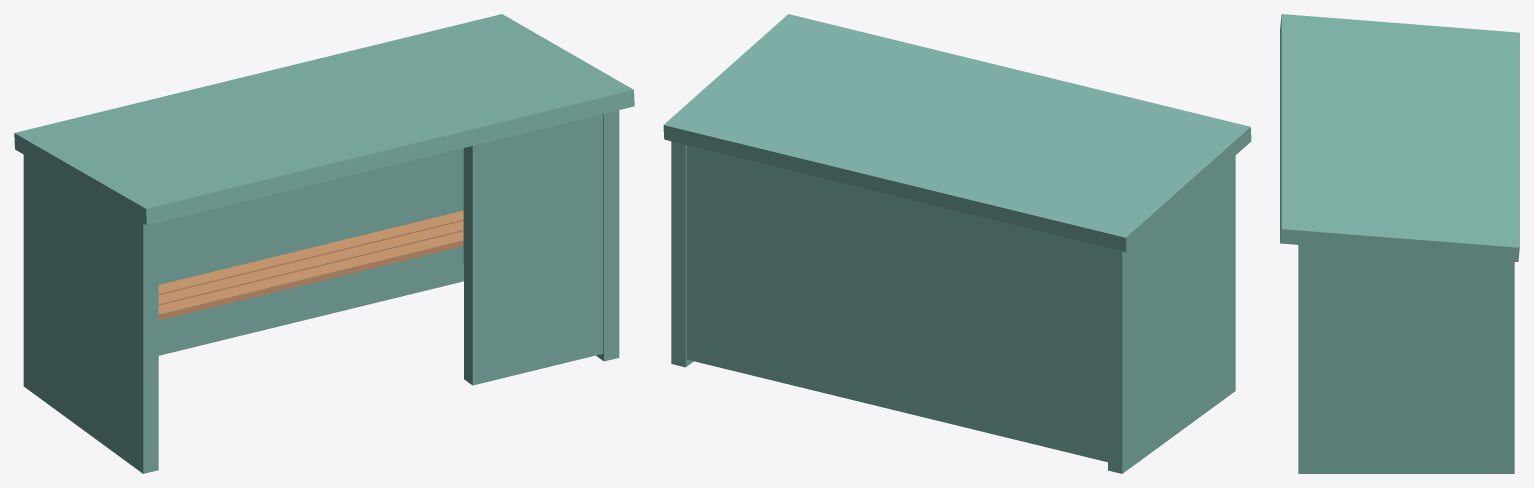
File: Ostanovka.FBX
The picture shows the model from 3 angles, left to right: view 1: azimuth 30°, elevation 25°; view 2: azimuth 150°, elevation 25°; view 3: azimuth 270°, elevation 25°; orthographic projection. The views are drawn at different scales.
Parts seen in each view (by area): view 1: Ostanovka_02; view 2: Ostanovka_02; view 3: Ostanovka_02.
Boxes of the visible parts, box(x1,y1,x2,y2) form: Ostanovka_02: box(14, 14, 634, 473); Ostanovka_02: box(663, 14, 1251, 473); Ostanovka_02: box(1280, 14, 1519, 473).
Size of the model in its own units: 1015 by 544 by 478.
